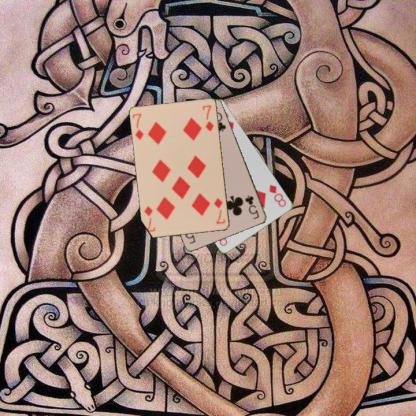5c: (242, 193, 260, 221)
7d: (212, 196, 226, 226), (131, 111, 145, 141)
8d: (266, 182, 288, 208)
